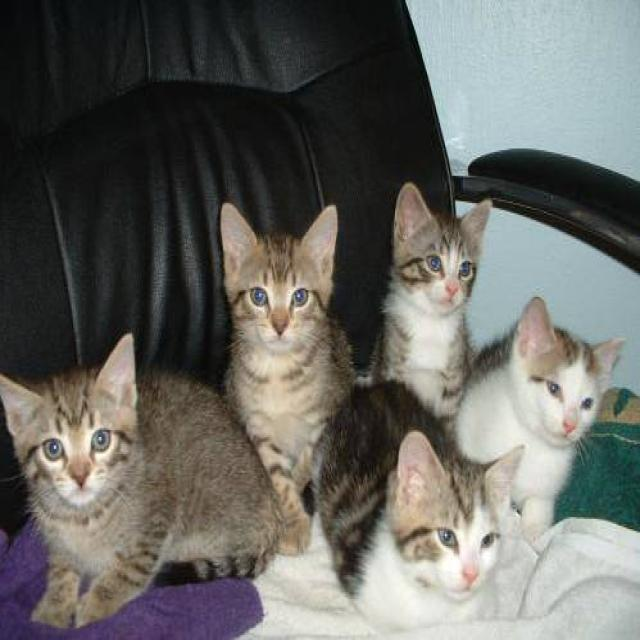cat: (0, 329, 285, 628), (310, 377, 526, 630), (218, 200, 355, 556), (453, 294, 626, 544), (363, 179, 492, 420)
